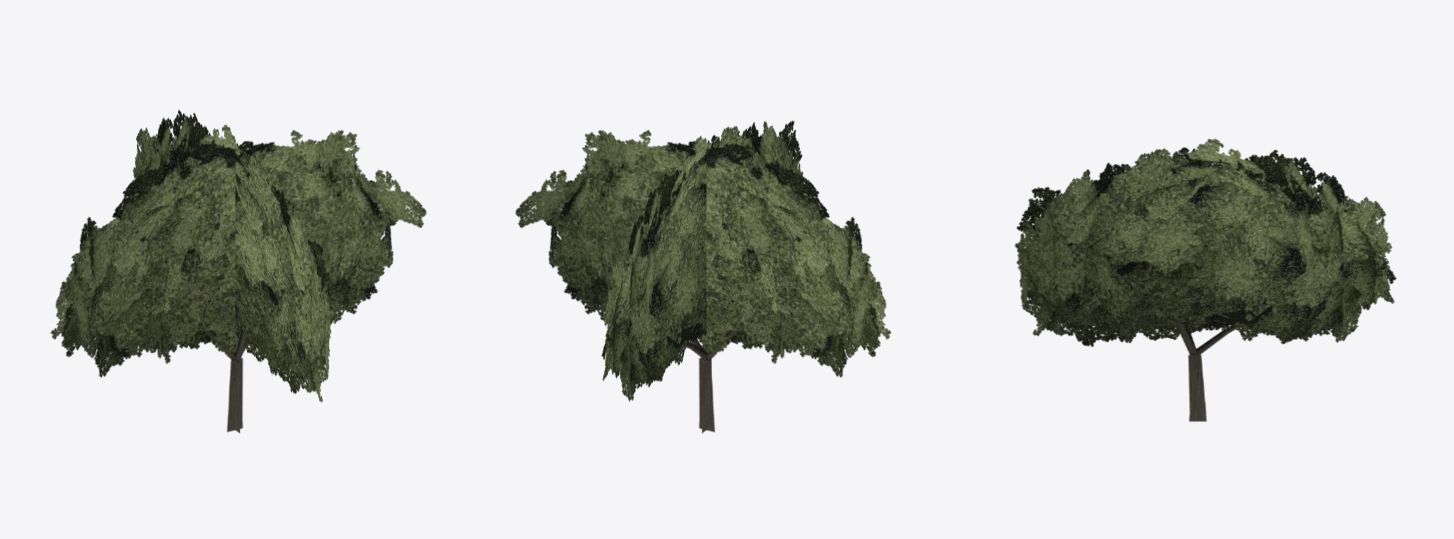
The model's file is oaktf.glb.
3 views of the same model, side by side, from view 1: azimuth 30°, elevation 25°; view 2: azimuth 150°, elevation 25°; view 3: azimuth 270°, elevation 25° (orthographic). The views are drawn at different scales.
Parts seen in each view (by area): view 1: oakt_lod1; view 2: oakt_lod1; view 3: oakt_lod1.
Part boxes in pixels (box(x1,y1,x2,y2)): oakt_lod1: box(50, 110, 426, 433); oakt_lod1: box(515, 120, 891, 433); oakt_lod1: box(1015, 138, 1396, 421).
Bounding box in the file's own units: 13.78 × 9.63 × 13.78.
1 material, 1 textured.
